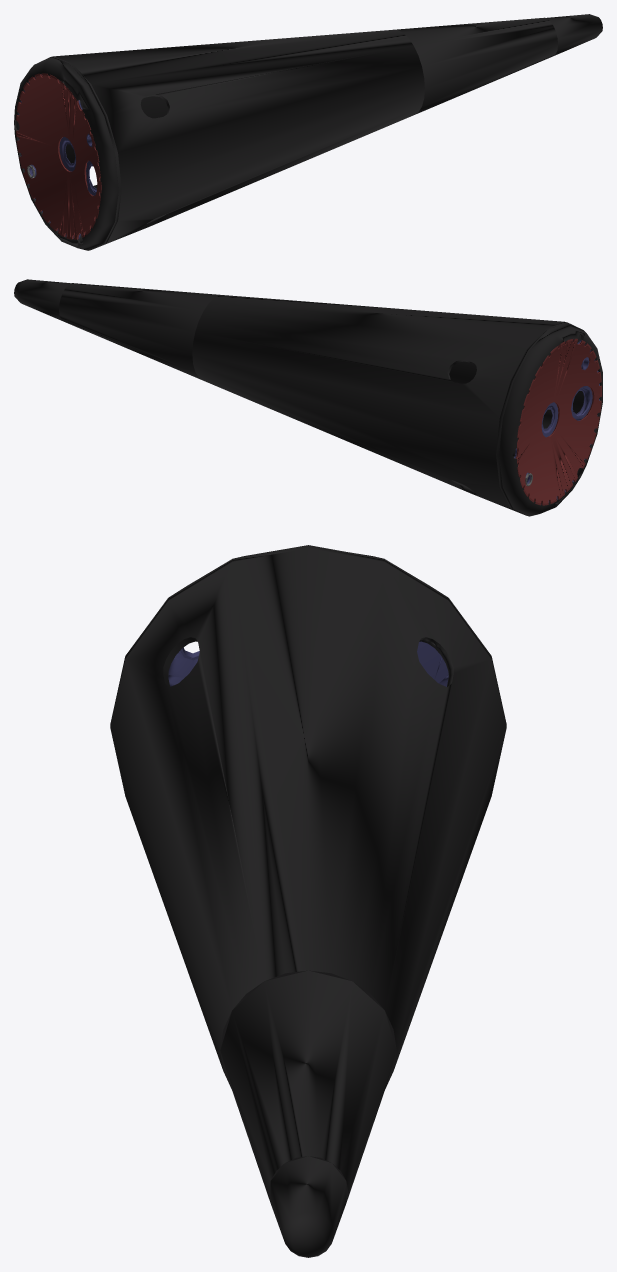
3 renders of one model, top to bottom at view 1: azimuth 30°, elevation 25°; view 2: azimuth 150°, elevation 25°; view 3: azimuth 270°, elevation 25°, orthographic. The views are drawn at different scales.
Parts seen in each view (by area): view 1: Object__1, Object__5, Object__2; view 2: Object__1, Object__5, Object__2; view 3: Object__1, Object__2.
Boxes of the visible parts, x1,y1,x2,y2 form: Object__1: [14, 14, 602, 250]; Object__5: [16, 73, 101, 239]; Object__2: [18, 75, 96, 239]; Object__1: [14, 279, 602, 516]; Object__5: [515, 338, 601, 505]; Object__2: [514, 339, 599, 504]; Object__1: [110, 545, 506, 1257]; Object__2: [168, 641, 448, 686].
Bounding box in the file's own units: 7.51 × 2.38 × 2.37.
